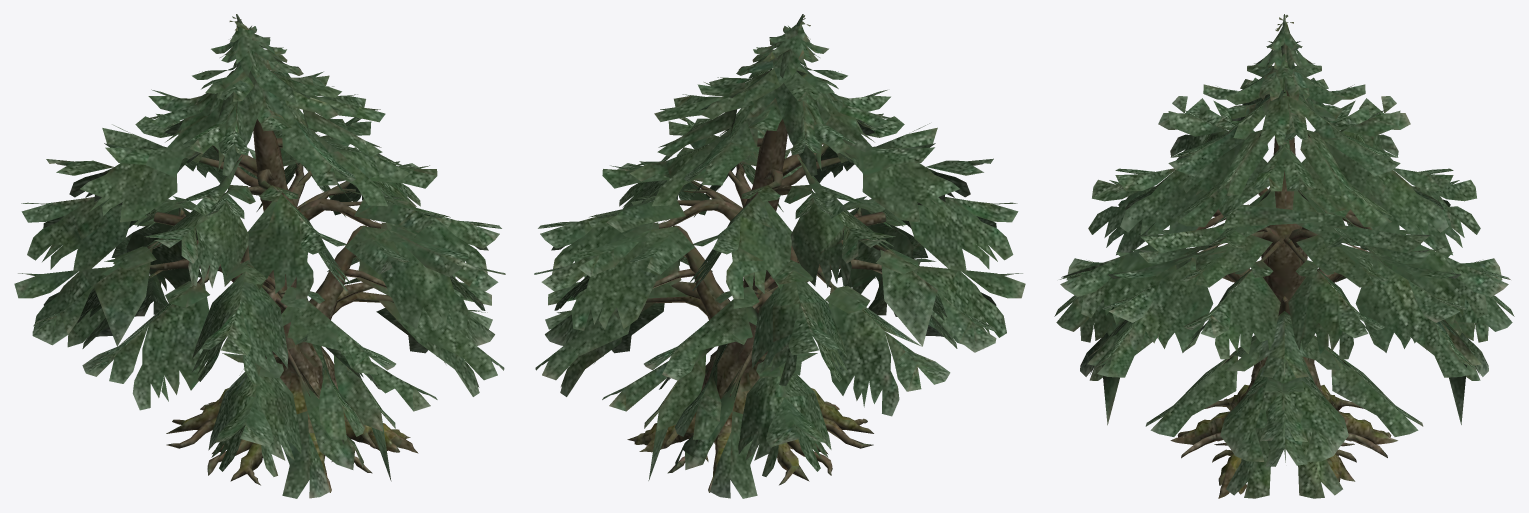
The model's file is tree_pine_wide.glb.
3 renders of one model, left to right at view 1: azimuth 30°, elevation 25°; view 2: azimuth 150°, elevation 25°; view 3: azimuth 270°, elevation 25°, orthographic. The views are drawn at different scales.
Visible parts, largest first — view 1: tripo_node_90e53fde-1c32-408f-863a-ca773dd3e7d4; view 2: tripo_node_90e53fde-1c32-408f-863a-ca773dd3e7d4; view 3: tripo_node_90e53fde-1c32-408f-863a-ca773dd3e7d4.
Boxes of the visible parts, <box> form: tripo_node_90e53fde-1c32-408f-863a-ca773dd3e7d4: <box>14,14,505,498</box>; tripo_node_90e53fde-1c32-408f-863a-ca773dd3e7d4: <box>534,14,1025,498</box>; tripo_node_90e53fde-1c32-408f-863a-ca773dd3e7d4: <box>1054,14,1514,498</box>.
Size of the model in its own units: 0.9937 by 0.9995 by 0.9966.
Materials: 1 (1 with a texture image).
